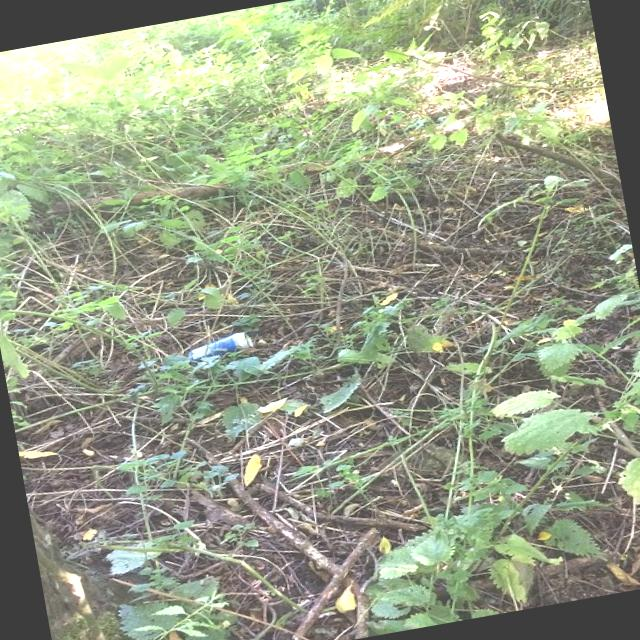Trash: (178, 322, 272, 366)
